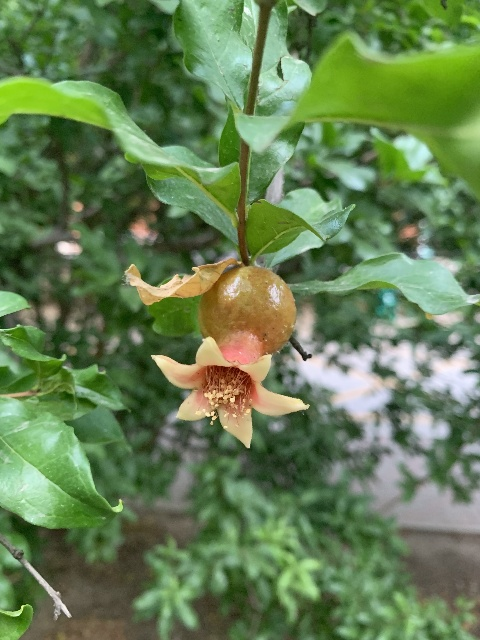early-fruit: (151, 264, 310, 450)
